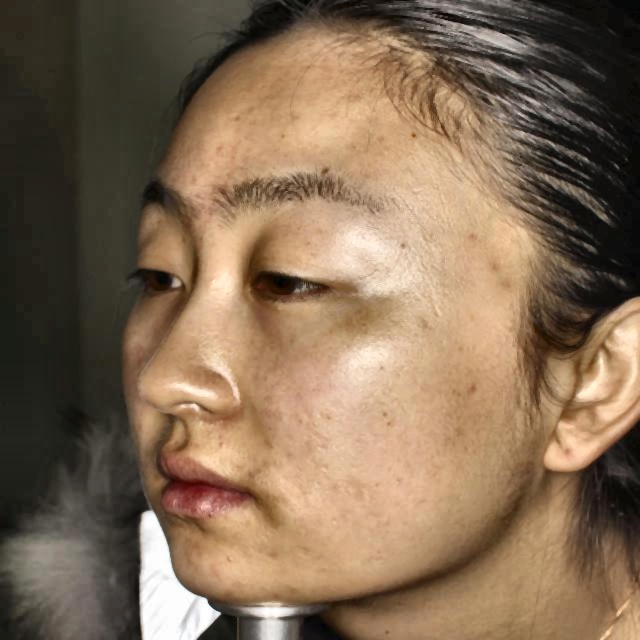comedone: (215, 549, 238, 564)
